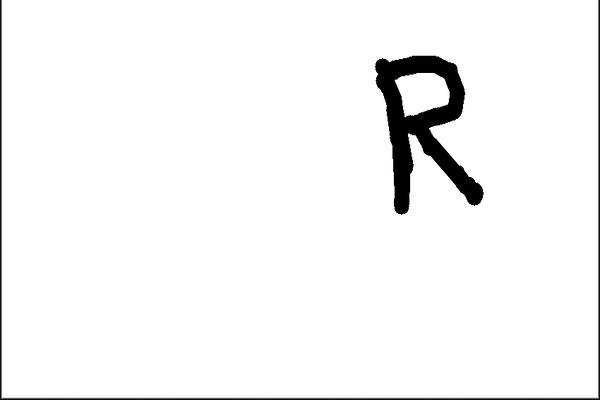R: (363, 39, 496, 218)
